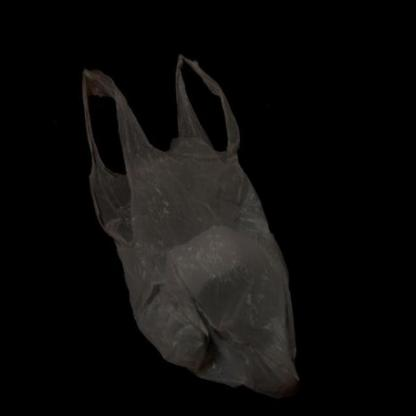Plastic Bag: (82, 56, 300, 401)
